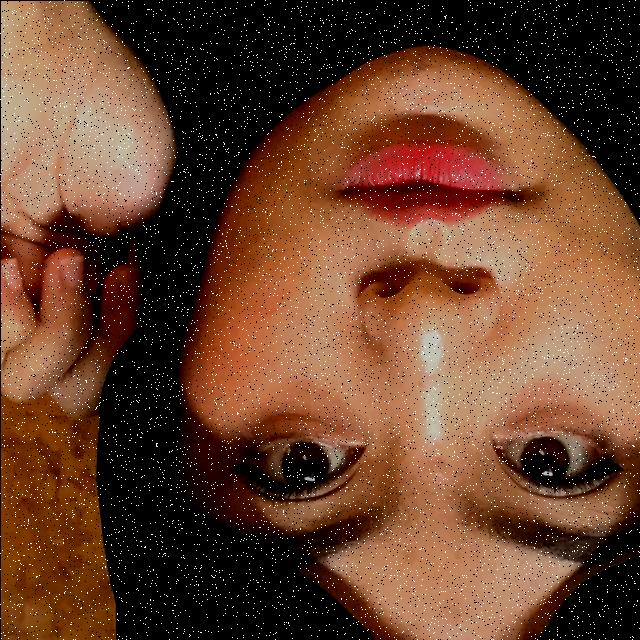ibu: (0, 0, 310, 444)
